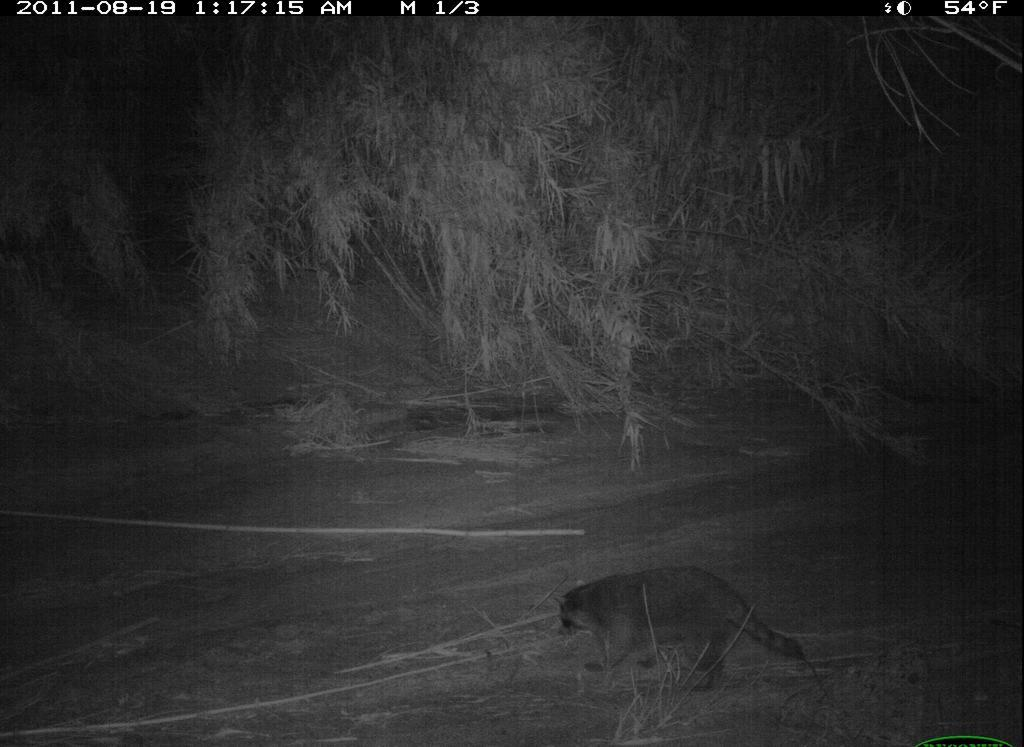raccoon: (546, 560, 813, 696)
